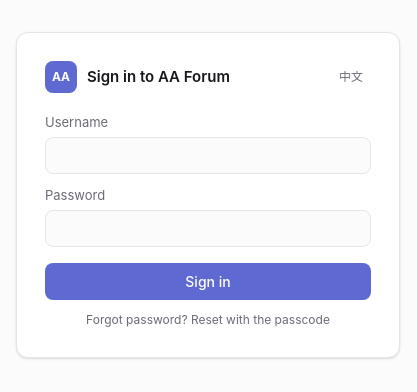
Test: Login › shows a translated error on 401
Type "u" into the field labelled "Username" at (208, 155), box [45,136,371,174]
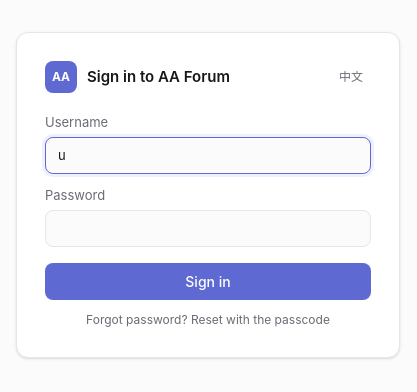
Type "p" into the password field labelled "Password" at (208, 228), box [45,210,371,247]
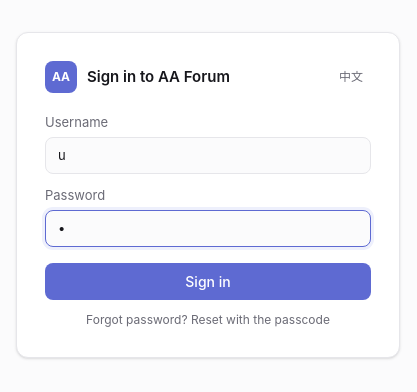
Click the button "Sign in" at (208, 282), box [45,263,371,300]
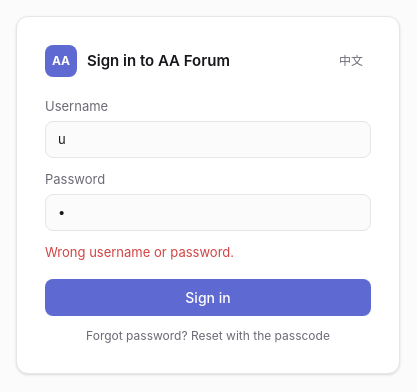
Result: the message reads "Wrong username or password." at [45,244,234,260]
